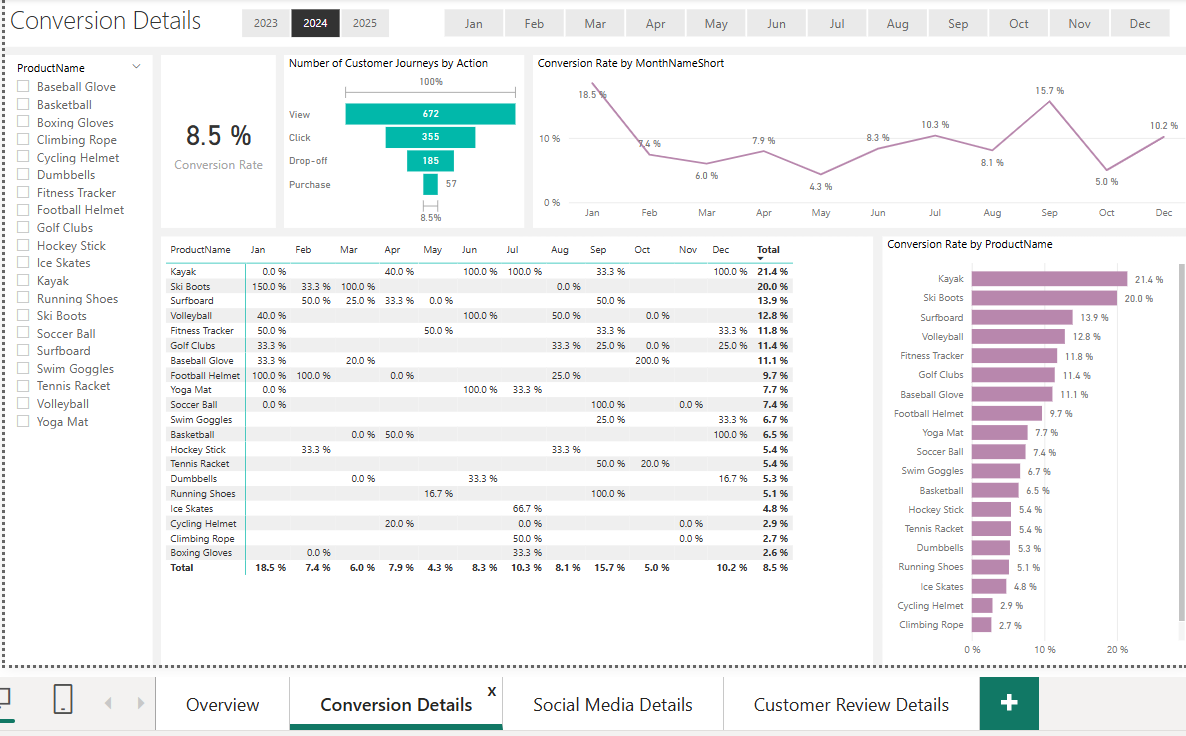

The dashboard page shown, as its layout file describes it:
{"tool":"powerbi","page":{"name":"Conversion Details","canvas":[1280,720],"ordinal":1},"visuals":[{"type":"textbox","box":[0,0,1280,52.6],"z":0},{"type":"slicer","fields":{"Values":["dim_products.ProductName"]},"box":[0,61.9,159.4,658.4],"z":1000},{"type":"card","fields":{"Values":["_Calculations.Conversion Rate"]},"box":[168.5,61.9,123.8,186.7],"z":2000},{"type":"lineChart","fields":{"Y":["_Calculations.Conversion Rate"],"Category":["Calendar.MonthNameShort"]},"box":[570.1,61.9,710.3,186.7],"z":3000},{"type":"clusteredBarChart","fields":{"Category":["dim_products.ProductName"],"Y":["_Calculations.Conversion Rate"]},"box":[948,257.7,332.4,462.6],"z":4000},{"type":"slicer","fields":{"Values":["Calendar.Year"]},"box":[230.2,4.1,208.5,44.4],"z":5000},{"type":"slicer","fields":{"Values":["Calendar.MonthNameShort"]},"box":[448,4.6,832.3,43.7],"z":6000},{"type":"pivotTable","fields":{"Rows":["dim_products.ProductName"],"Values":["_Calculations.Conversion Rate"],"Columns":["Calendar.MonthNameShort"]},"box":[168.5,257.7,768.6,462.6],"z":7000},{"type":"funnel","fields":{"Category":["fact_customer_journey.Action"],"Y":["_Calculations.Number of Customer Journeys"]},"box":[301.4,61.9,259.5,186.7],"z":8000}]}

Visuals, with their boxes on the page's 1280x720 design canvas (x1, y1, x2, y2). These are canvas units, not pixel positions in the 1186x736 screenshot, which may show the page scaled, cropped or inside an application window:
textbox: (0,0,1280,53)
slicer - dim_products.ProductName: (0,62,159,720)
card - _Calculations.Conversion Rate: (168,62,292,249)
lineChart - _Calculations.Conversion Rate x Calendar.MonthNameShort: (570,62,1280,249)
clusteredBarChart - dim_products.ProductName x _Calculations.Conversion Rate: (948,258,1280,720)
slicer - Calendar.Year: (230,4,439,48)
slicer - Calendar.MonthNameShort: (448,5,1280,48)
pivotTable - dim_products.ProductName x _Calculations.Conversion Rate: (168,258,937,720)
funnel - fact_customer_journey.Action x _Calculations.Number of Customer Journeys: (301,62,561,249)
